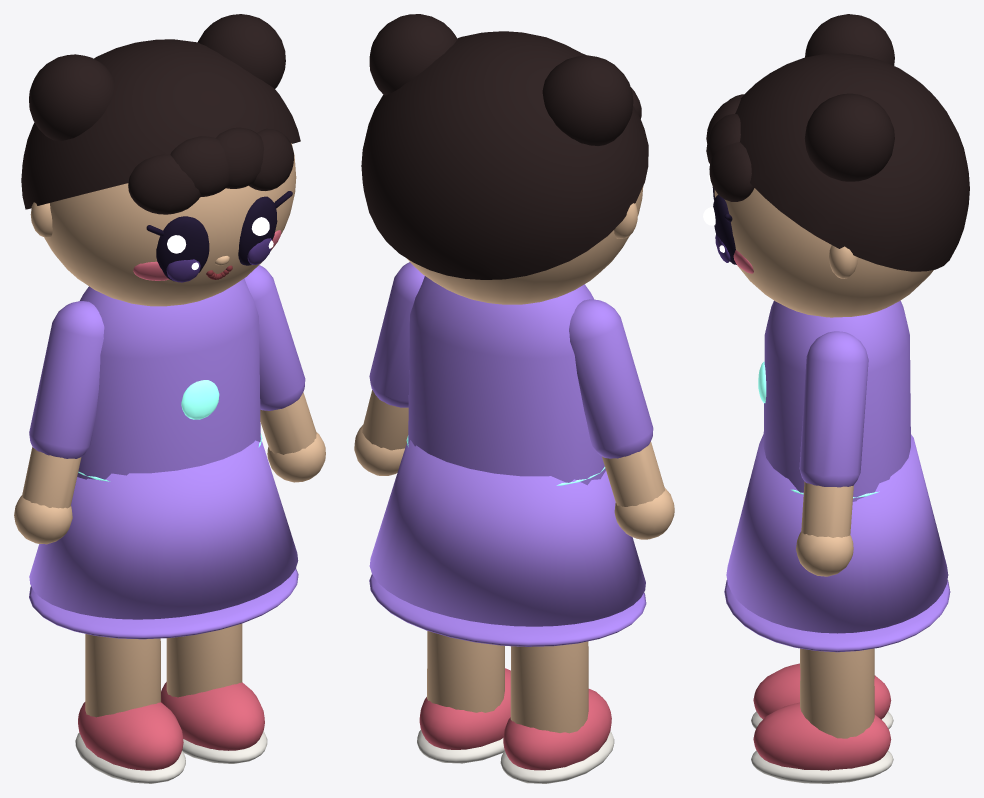
The model's file is girl9.glb.
3 views of the same model, side by side, from view 1: azimuth 30°, elevation 25°; view 2: azimuth 150°, elevation 25°; view 3: azimuth 270°, elevation 25° (orthographic). The views are drawn at different scales.
Parts seen in each view (by area): view 1: girl9; view 2: girl9; view 3: girl9.
Boxes of the visible parts, x1,y1,x2,y2 form: girl9: (14, 14, 325, 783); girl9: (354, 14, 674, 783); girl9: (703, 14, 969, 783).
Size of the model in its own units: 0.5924 by 1.32 by 0.4581.
